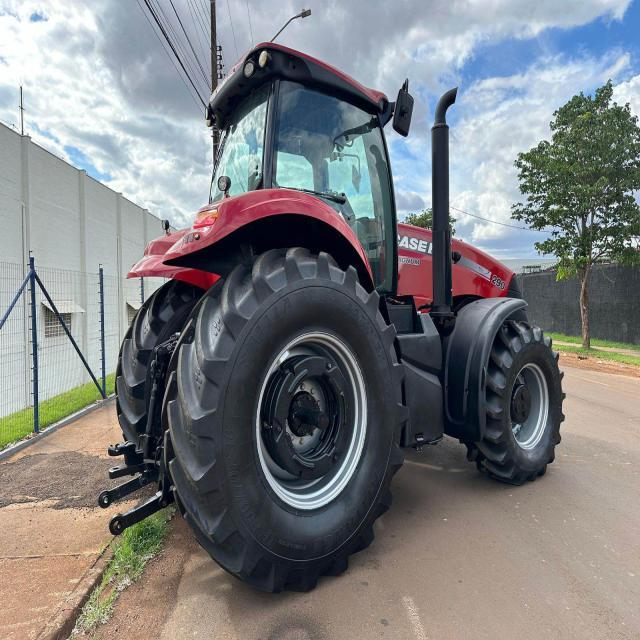Tratores - v5 YOLO V8L 2024-11-13: (106, 26, 566, 598)
